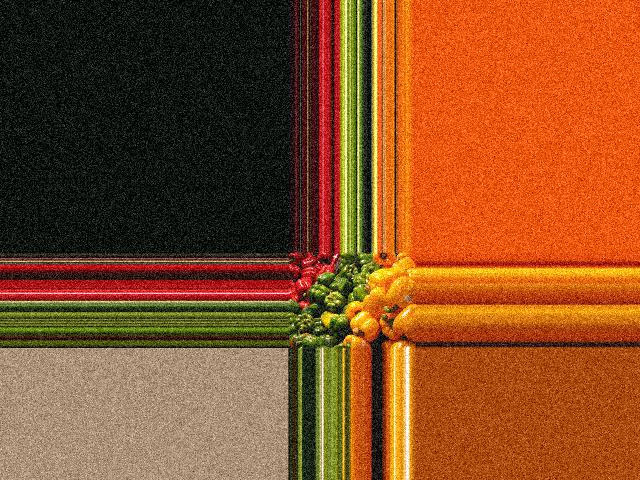bell_pepper: (288, 332, 311, 349)
